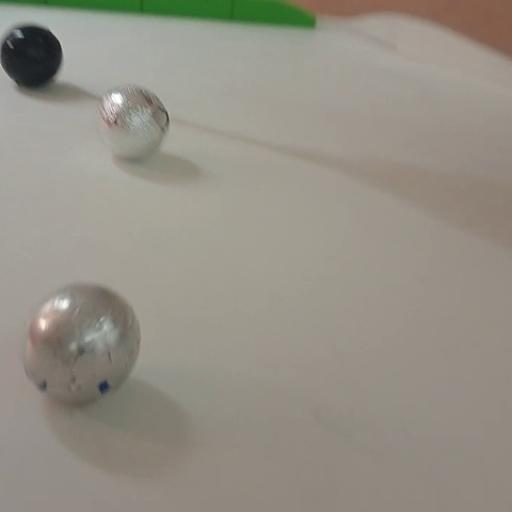alive: (21, 279, 145, 408), (96, 82, 171, 158)
dead: (0, 21, 65, 89)
